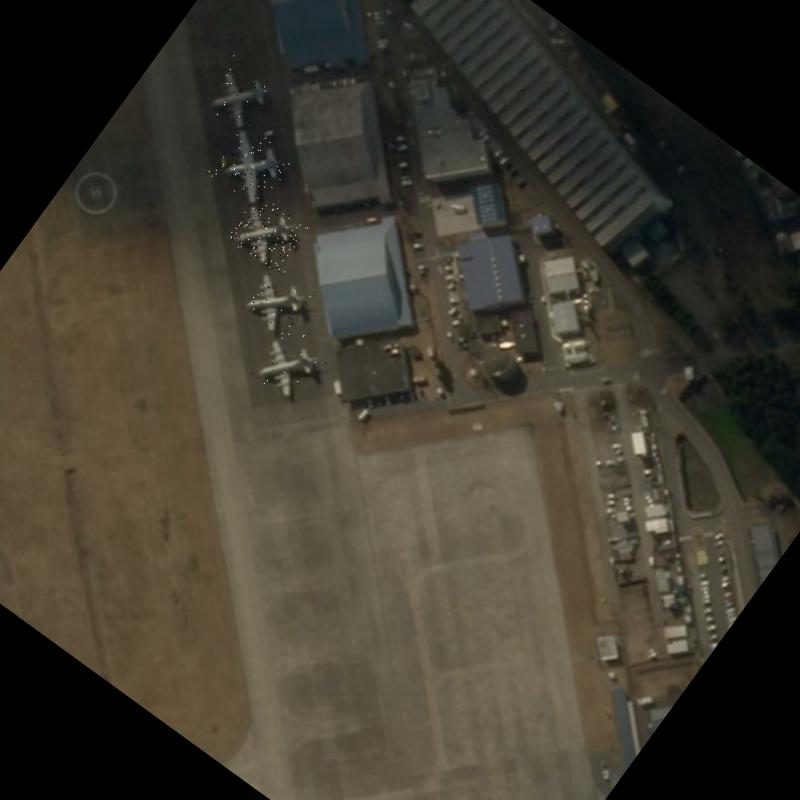A2: (206, 120, 296, 210)
A9: (248, 322, 332, 407), (224, 192, 308, 274), (198, 54, 280, 136), (237, 262, 317, 342)
